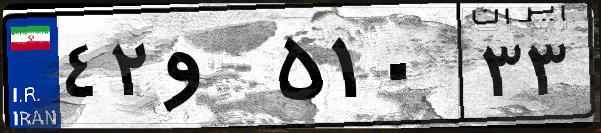0: (385, 28, 445, 110)
1: (330, 28, 385, 110)
2: (110, 28, 158, 98)
3: (475, 38, 525, 113), (525, 38, 570, 115)
4: (57, 26, 110, 100)
5: (270, 28, 330, 110)
و: (158, 20, 270, 120)
